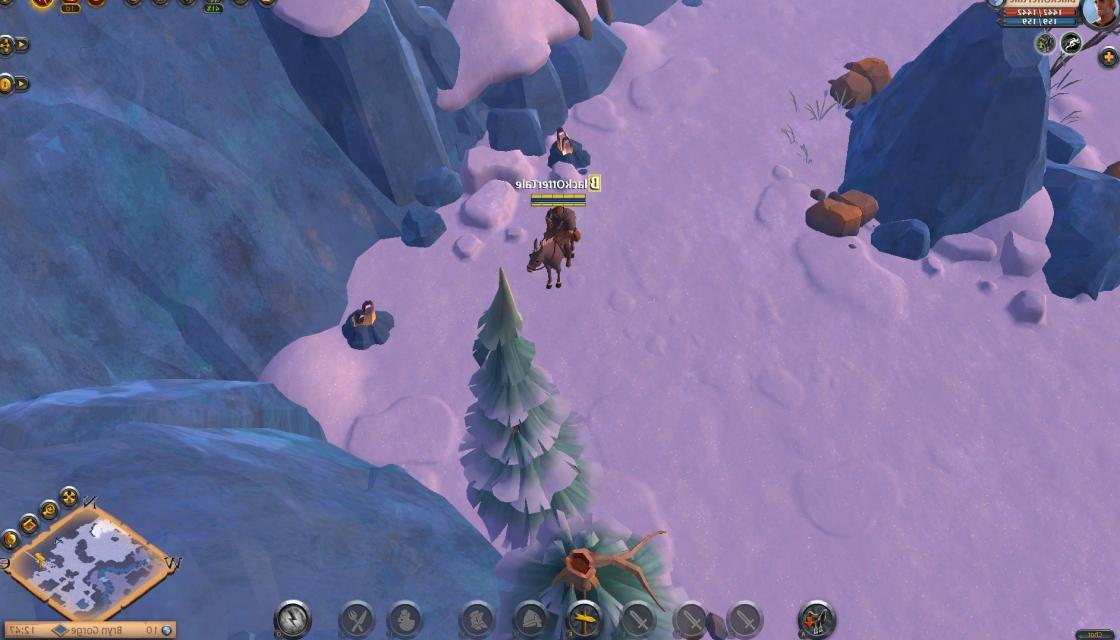copperore: (342, 296, 395, 348), (545, 128, 593, 176)
limestone: (807, 184, 885, 234), (828, 55, 897, 107)
